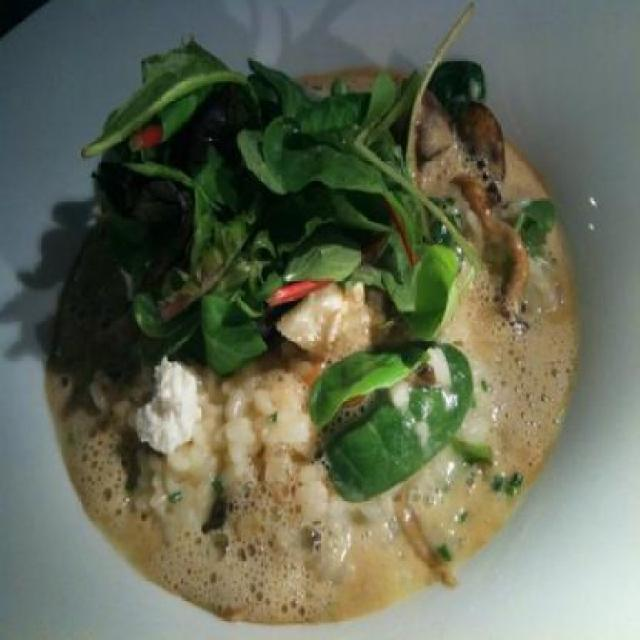Risotto: (70, 58, 584, 594)
